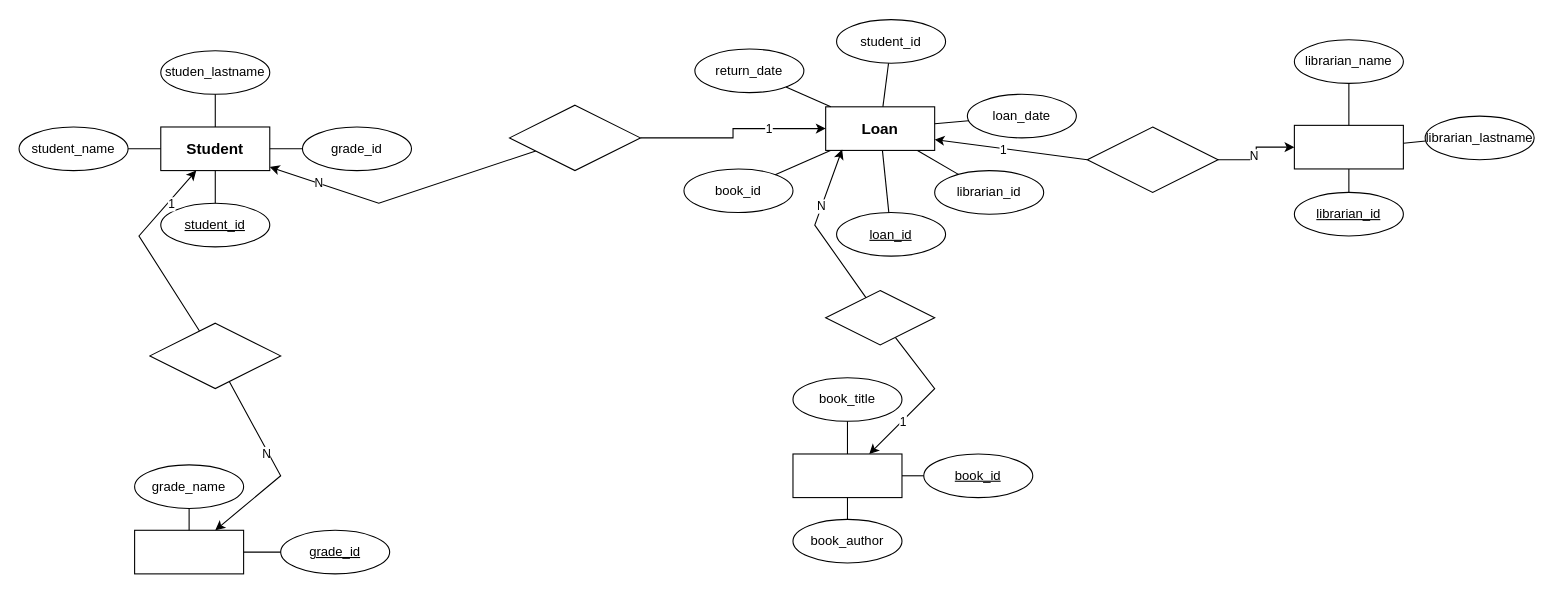
Some shapes in this 1553 by 593 pixel diagram are drawn without their labels. The box of each missing label's shape, as (x1, y1, x2, y2) in pixels:
Authorizes: (1086, 126, 1218, 192)
Belongs: (149, 322, 281, 389)
Book: (792, 453, 902, 498)
Grade: (134, 529, 244, 574)
Includes: (825, 289, 935, 345)
Librarian: (1293, 124, 1403, 169)
Request: (508, 104, 640, 171)
